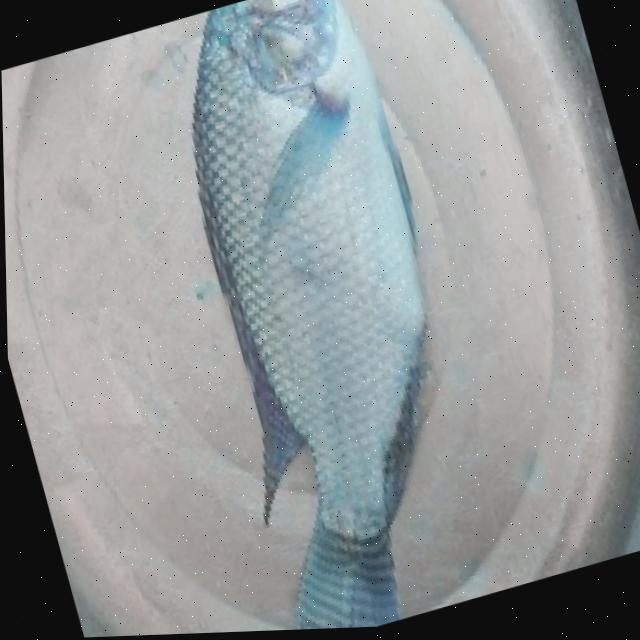Fresh: (81, 0, 520, 638)
